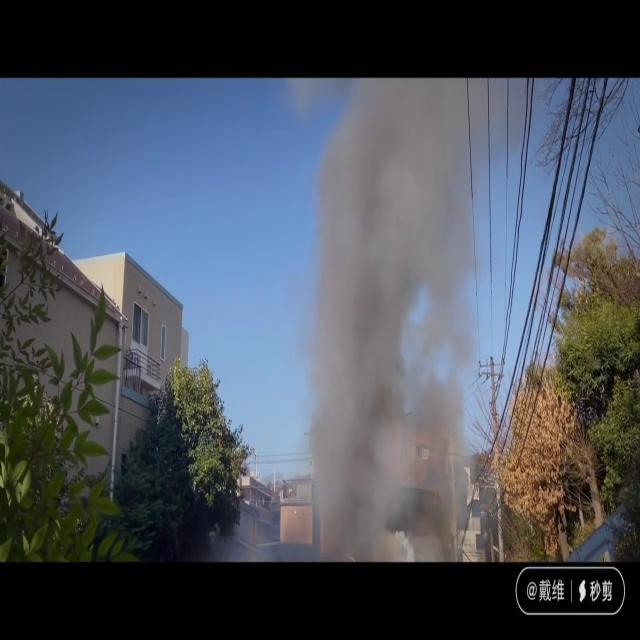Smoke: (294, 79, 482, 557)
